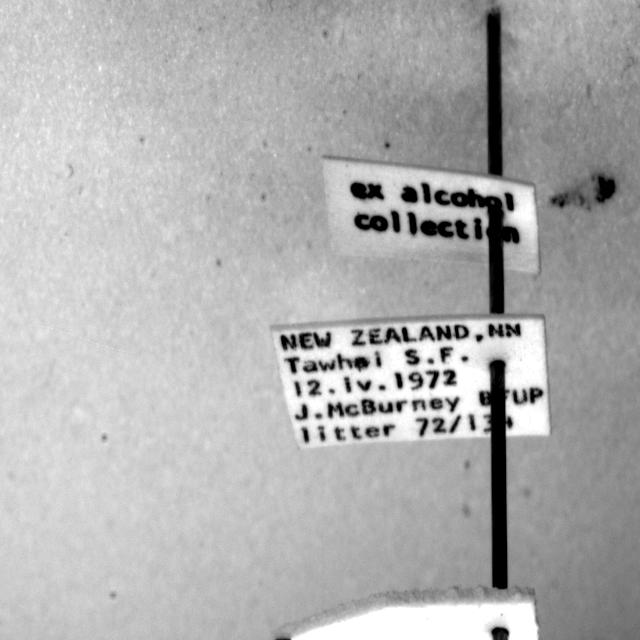typed_label: (271, 315, 550, 448), (322, 158, 540, 274)
